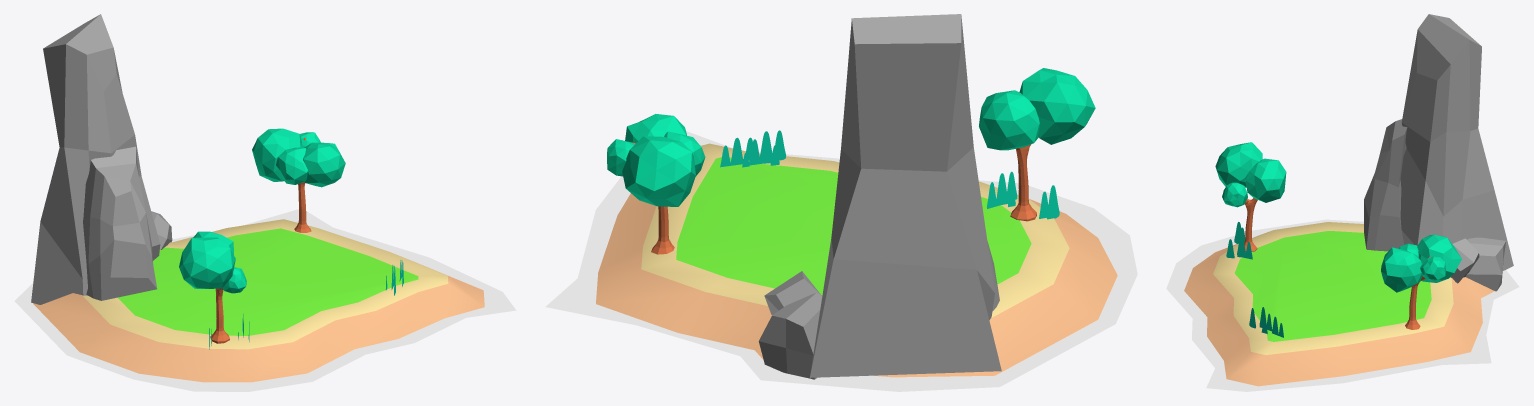
Rendered from island.fbx.
The picture shows the model from 3 angles, left to right: view 1: azimuth 30°, elevation 25°; view 2: azimuth 150°, elevation 25°; view 3: azimuth 270°, elevation 25°; orthographic projection. The views are drawn at different scales.
Parts seen in each view (by area): view 1: Plane, Cube, Icosphere, tree.001; view 2: Plane, Cube, Icosphere, Plane.002, tree.001; view 3: Plane, Cube, Icosphere, Plane.002, tree.001.
Part boxes in pixels (<box>): Plane: <box>14,209,516,391</box>; Cube: <box>31,14,172,304</box>; Icosphere: <box>179,128,345,293</box>; tree.001: <box>210,137,311,343</box>; Plane: <box>545,131,1137,391</box>; Cube: <box>758,14,1001,379</box>; Icosphere: <box>607,68,1095,206</box>; Plane.002: <box>720,130,1059,219</box>; tree.001: <box>633,142,1036,254</box>; Plane: <box>1166,219,1519,391</box>; Cube: <box>1364,14,1513,291</box>; Icosphere: <box>1215,142,1461,292</box>; Plane.002: <box>1226,222,1283,337</box>; tree.001: <box>1244,198,1430,329</box>.
Bounding box in the file's own units: 1143 × 745 × 990.
